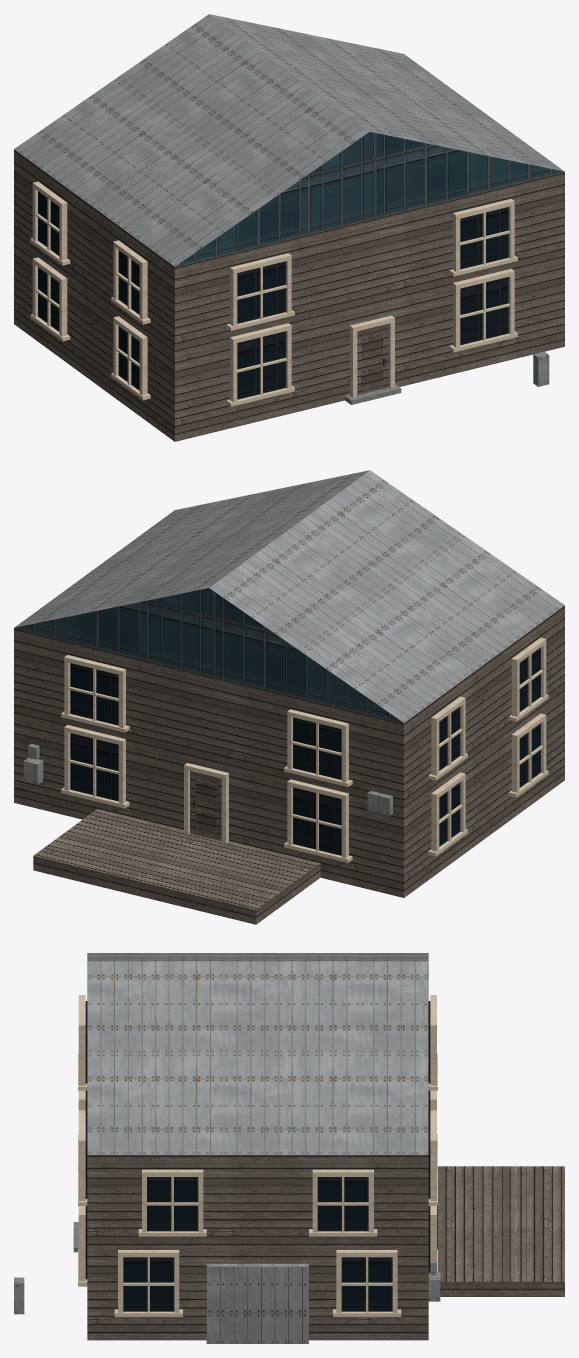
Rendered from glass-gable-house_lod0.gltf.
3 renders of one model, top to bottom at view 1: azimuth 30°, elevation 25°; view 2: azimuth 150°, elevation 25°; view 3: azimuth 270°, elevation 25°, orthographic. The views are drawn at different scales.
Parts seen in each view (by area): view 1: glass-gable-house_walls, glass-gable-house_roof, glass-gable-house_gable_ends, glass-gable-house_fen_04-limestone_0, glass-gable-house_fen_07-glass-curtain-blue_5_t, glass-gable-house_fen_18-timber-siding_1, glass-gable-house_fen_18-timber-siding_2_t, glass-gable-house__mailbox; view 2: glass-gable-house_walls, glass-gable-house_roof, glass-gable-house__deck, glass-gable-house_gable_ends, glass-gable-house_fen_04-limestone_0, glass-gable-house_fen_07-glass-curtain-blue_5_t, glass-gable-house_fen_14-steel-panel_6, glass-gable-house_fen_18-timber-siding_1, glass-gable-house_fen_18-timber-siding_2_t; view 3: glass-gable-house_roof, glass-gable-house_walls, glass-gable-house__deck, glass-gable-house_fen_07-glass-curtain-blue_5_t, glass-gable-house_fen_04-limestone_0, glass-gable-house__garage_door, glass-gable-house_fen_14-steel-panel_6.
Part boxes in pixels (bbox=[...]): glass-gable-house_walls: bbox=[14, 149, 564, 441]; glass-gable-house_roof: bbox=[14, 14, 564, 266]; glass-gable-house_gable_ends: bbox=[175, 132, 564, 266]; glass-gable-house_fen_04-limestone_0: bbox=[30, 181, 517, 406]; glass-gable-house_fen_07-glass-curtain-blue_5_t: bbox=[38, 191, 508, 399]; glass-gable-house_fen_18-timber-siding_1: bbox=[357, 323, 388, 395]; glass-gable-house_fen_18-timber-siding_2_t: bbox=[362, 333, 382, 391]; glass-gable-house__mailbox: bbox=[533, 351, 549, 386]; glass-gable-house_walls: bbox=[14, 605, 564, 897]; glass-gable-house_roof: bbox=[14, 470, 564, 722]; glass-gable-house__deck: bbox=[33, 808, 320, 924]; glass-gable-house_gable_ends: bbox=[14, 588, 403, 722]; glass-gable-house_fen_04-limestone_0: bbox=[61, 637, 548, 862]; glass-gable-house_fen_07-glass-curtain-blue_5_t: bbox=[70, 647, 540, 855]; glass-gable-house_fen_14-steel-panel_6: bbox=[23, 743, 392, 815]; glass-gable-house_fen_18-timber-siding_1: bbox=[190, 771, 221, 840]; glass-gable-house_fen_18-timber-siding_2_t: bbox=[196, 780, 216, 833]; glass-gable-house_roof: bbox=[87, 953, 428, 1154]; glass-gable-house_walls: bbox=[87, 1155, 428, 1340]; glass-gable-house__deck: bbox=[437, 1166, 564, 1296]; glass-gable-house_fen_07-glass-curtain-blue_5_t: bbox=[85, 1001, 430, 1311]; glass-gable-house_fen_04-limestone_0: bbox=[78, 995, 437, 1316]; glass-gable-house__garage_door: bbox=[206, 1263, 308, 1343]; glass-gable-house_fen_14-steel-panel_6: bbox=[428, 1258, 440, 1301].
Bounding box in the file's own units: 14.55 × 9 × 16.15.
